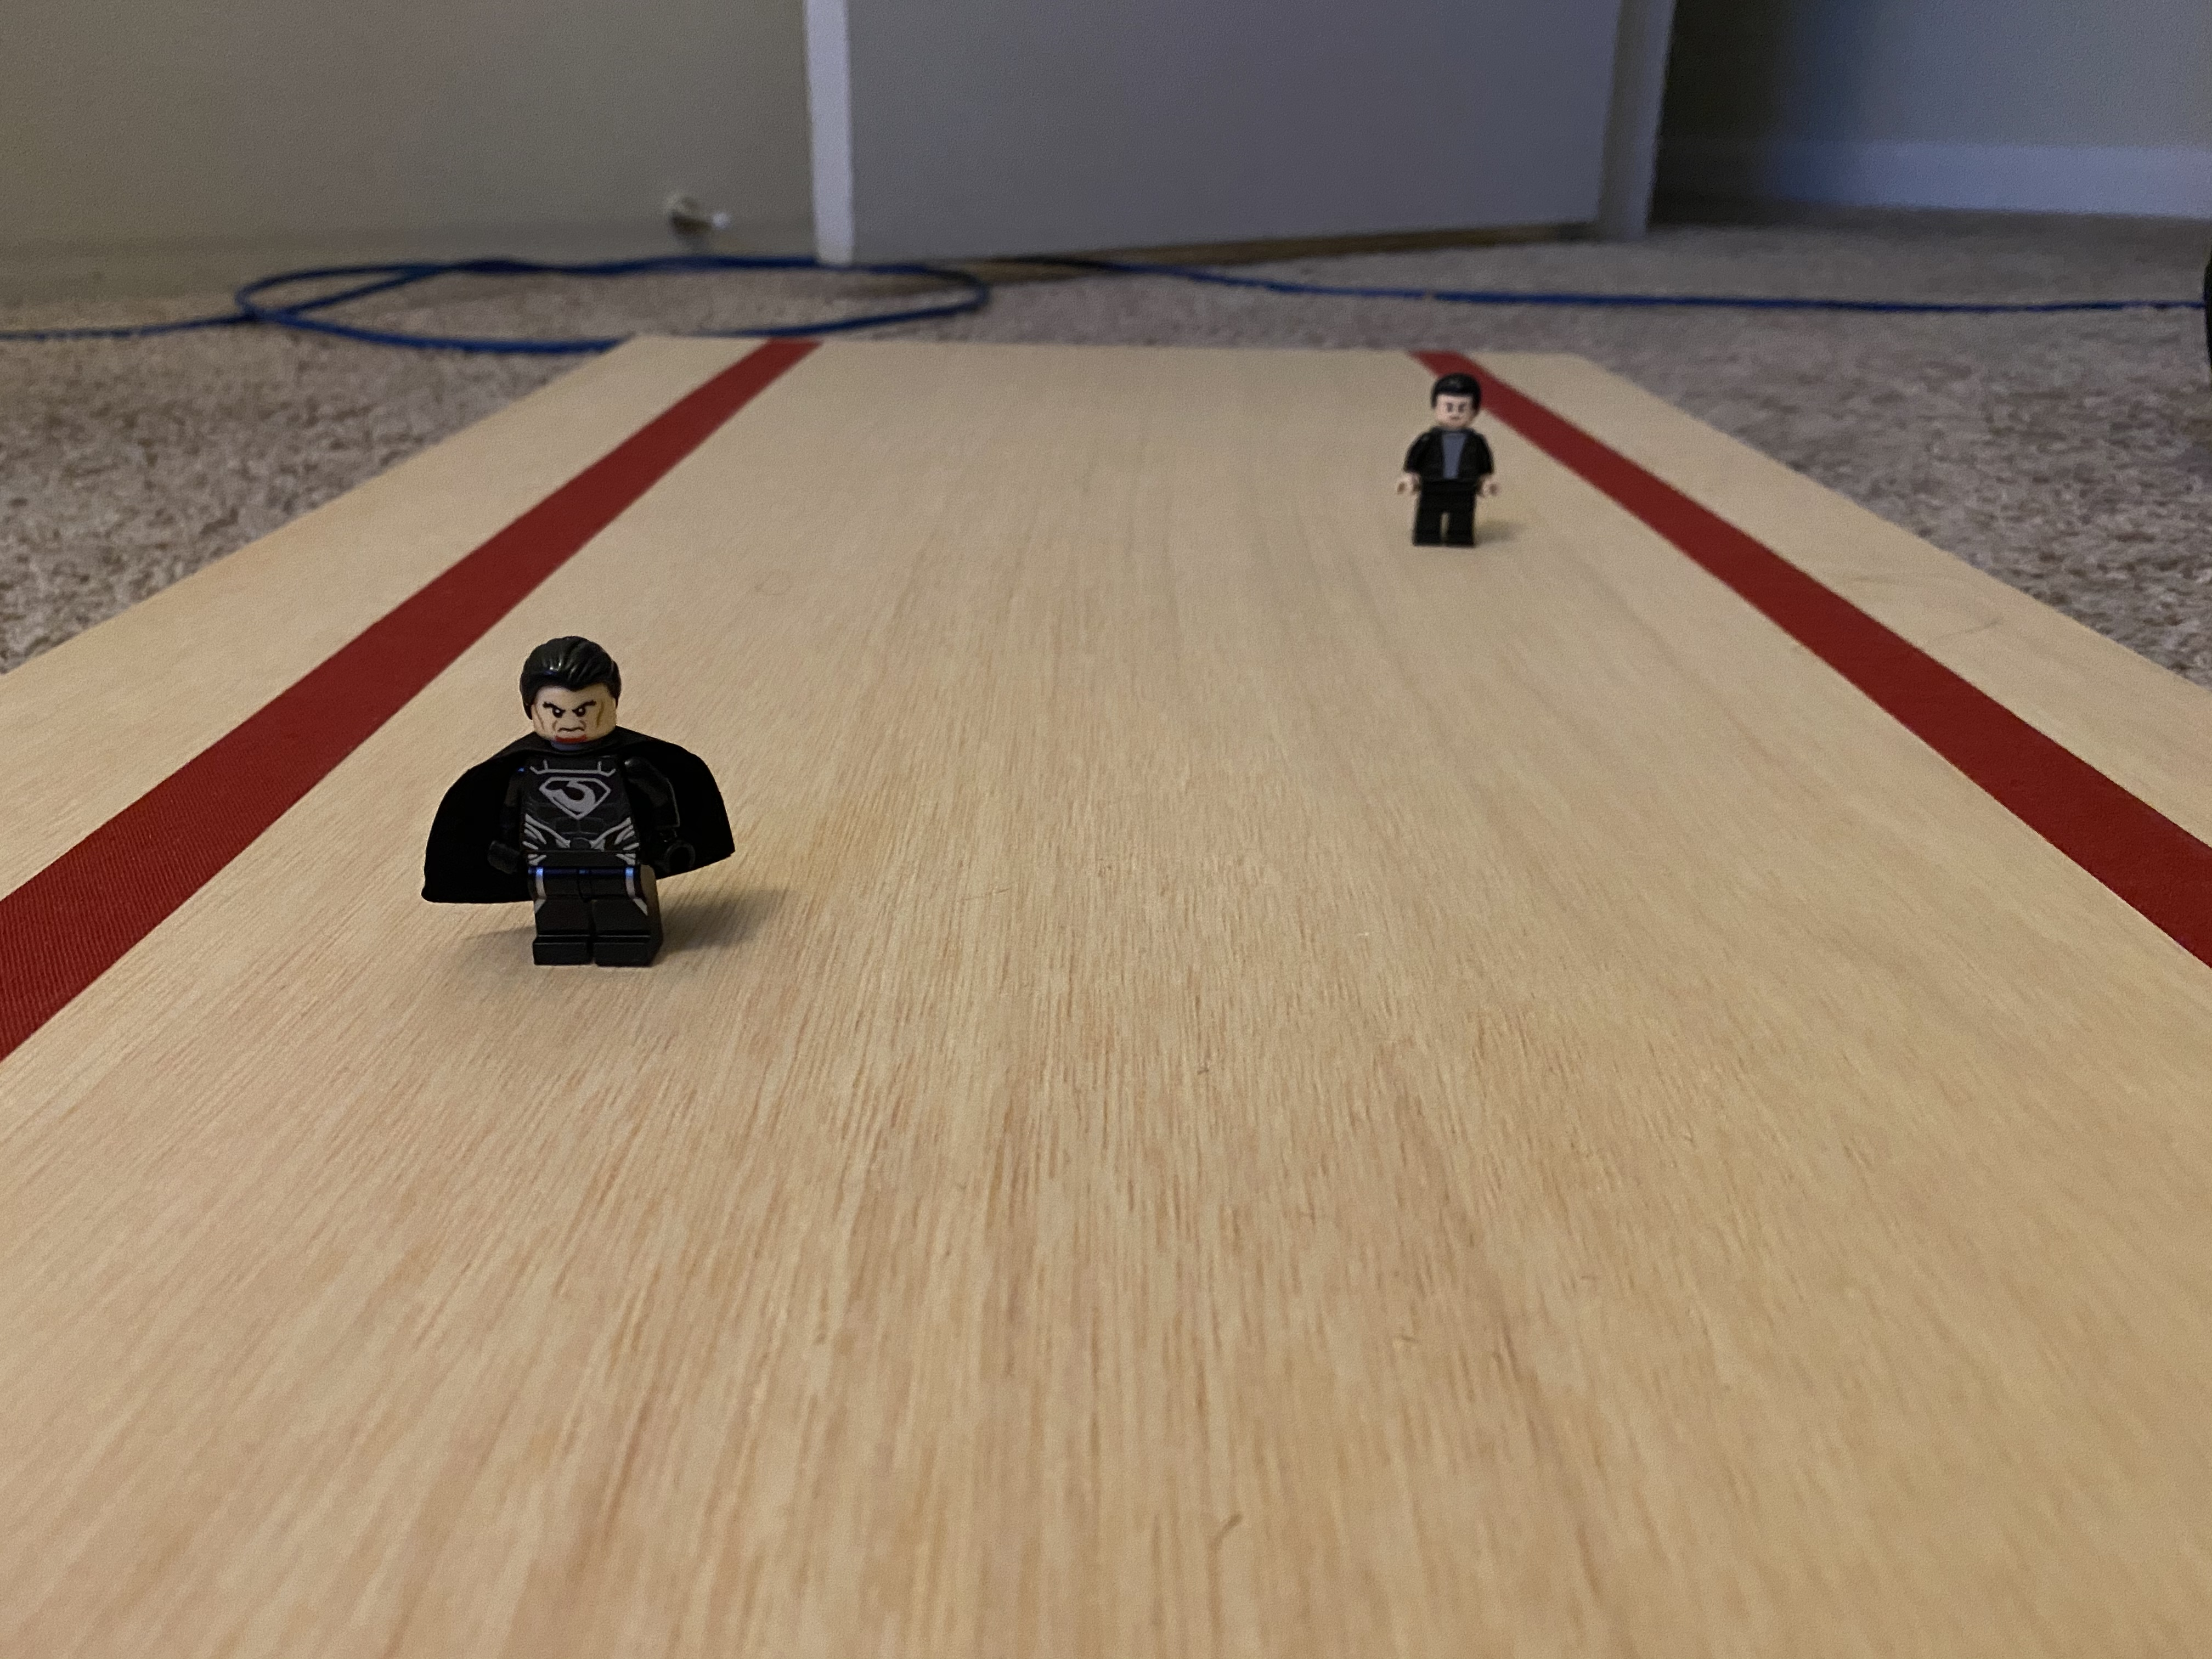Person: (429, 651, 781, 980), (1390, 377, 1517, 550)
